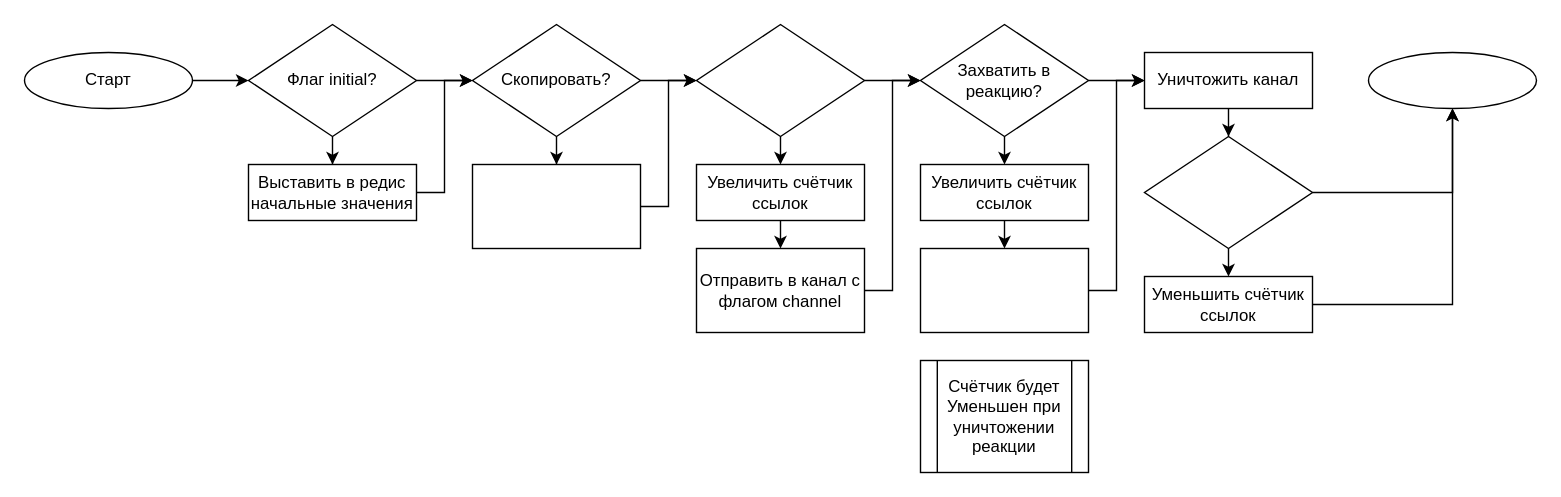
Some shapes in this 1561 by 497 pixel diagram are drawn without their labels. The box of each missing label's shape, as (x1, y1, x2, y2) in pixels:
Конец: (1367, 51, 1536, 108)
Копировать с флагом weak: (471, 163, 640, 248)
Отправить в канал?: (695, 23, 864, 136)
Сохранить в контекст с флагом weak: (919, 247, 1088, 332)
Флаг initial или channel?: (1143, 135, 1312, 248)
